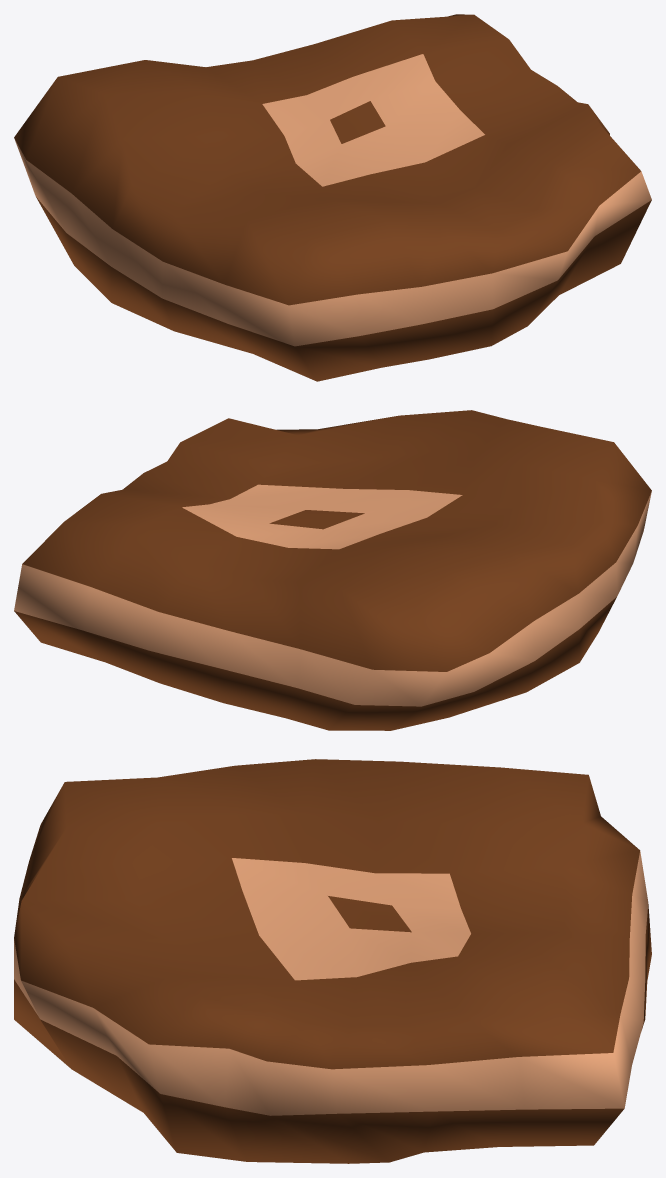
File: CookedSteak.fbx
3 renders of one model, top to bottom at view 1: azimuth 30°, elevation 25°; view 2: azimuth 150°, elevation 25°; view 3: azimuth 270°, elevation 25°, orthographic. The views are drawn at different scales.
Parts seen in each view (by area): view 1: Cube.001; view 2: Cube.001; view 3: Cube.001.
Part boxes in pixels (x1,y1,x2,y2): Cube.001: (14,14,651,381); Cube.001: (14,410,651,730); Cube.001: (14,759,651,1163).
Size of the model in its own units: 200 by 68.48 by 202.
